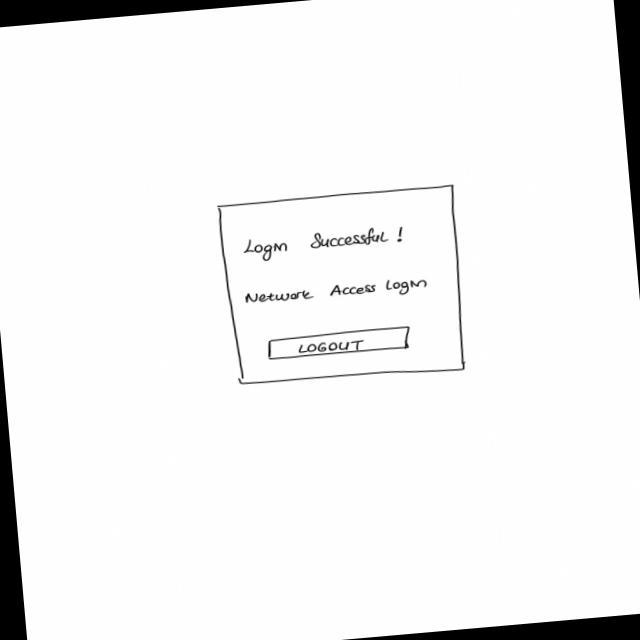button: (264, 324, 414, 361)
container: (214, 183, 469, 391)
label: (242, 224, 406, 264), (242, 275, 430, 309)
